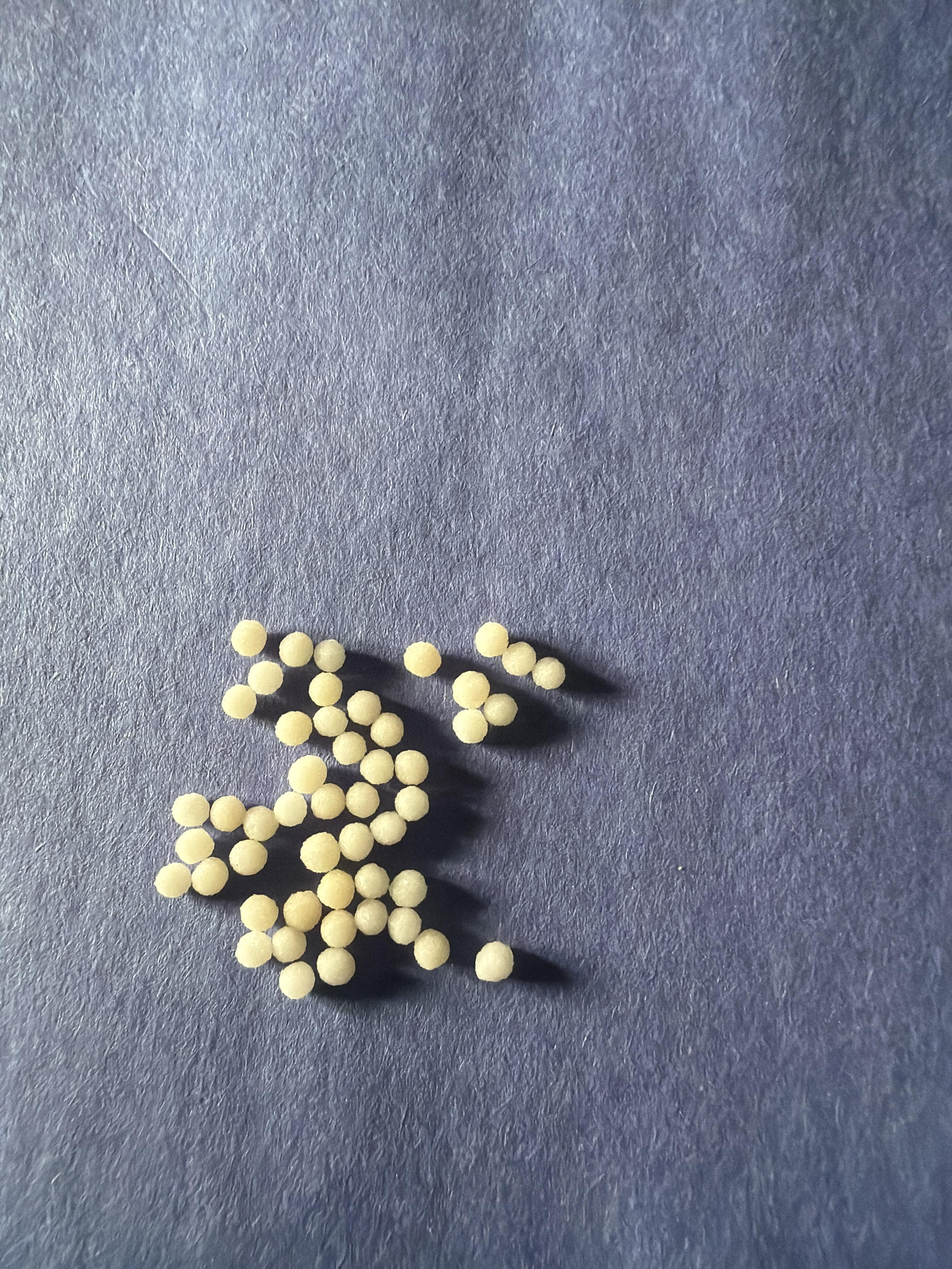pill: (300, 832, 340, 873), (283, 890, 322, 932), (475, 941, 514, 982), (288, 755, 326, 796), (191, 856, 229, 896), (413, 929, 450, 970), (389, 869, 427, 908), (316, 948, 355, 986), (317, 869, 354, 909), (452, 671, 490, 709), (240, 894, 278, 932), (175, 828, 213, 865), (229, 839, 268, 875), (235, 931, 272, 968), (209, 795, 246, 832), (279, 961, 315, 999), (231, 619, 267, 657), (275, 711, 313, 747), (404, 641, 441, 677), (320, 910, 356, 947), (339, 823, 374, 861), (271, 926, 306, 963), (172, 793, 210, 827), (345, 782, 380, 818), (155, 863, 191, 898), (243, 806, 279, 841), (354, 863, 389, 899), (311, 783, 345, 820), (394, 786, 429, 821), (452, 709, 487, 744), (221, 684, 256, 719), (279, 632, 314, 667), (354, 899, 388, 935), (247, 661, 283, 695), (347, 690, 381, 726), (394, 749, 428, 785), (388, 907, 420, 945), (360, 750, 394, 785), (474, 622, 508, 657), (370, 713, 404, 748), (308, 673, 342, 707), (502, 642, 536, 676), (370, 813, 406, 845), (531, 657, 565, 690), (483, 694, 518, 726), (334, 730, 366, 765), (274, 792, 306, 826), (313, 639, 345, 672), (314, 705, 347, 737)
